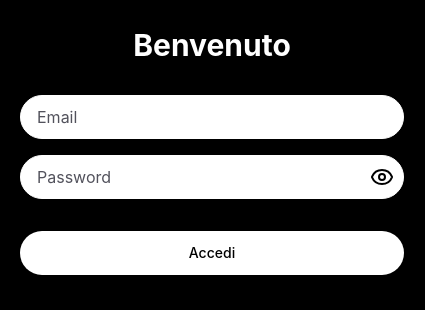
Test case: LoginPage › AC4 - wrong credentials › shows a distinct generic message on unexpected errors
The image size is (425, 310).
Type "a@learnn.com" into the field labelled "Email". click: (212, 117)
box: [20,95,404,139]
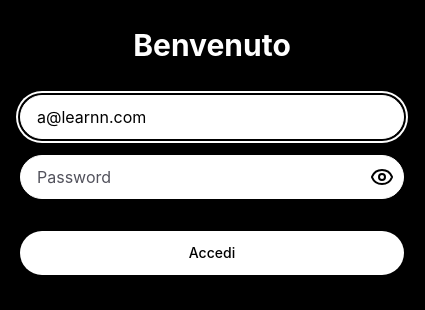
Type "x" into the password field labelled "Password". click: (212, 177)
box: [20,155,404,199]
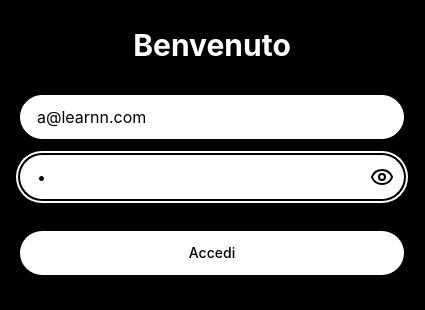
Click the button "Accedi". click: (212, 253)
box: [20,231,404,275]
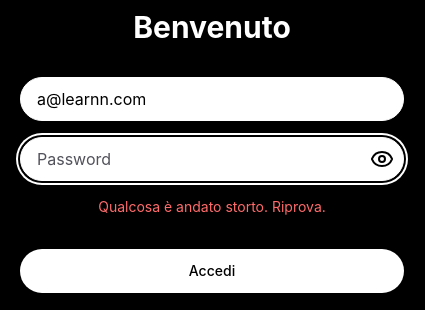
Expected: the message does not show "boom", [98,198,326,215]
Result: the message reads "Qualcosa è andato storto. Riprova." at [98,198,326,215]
